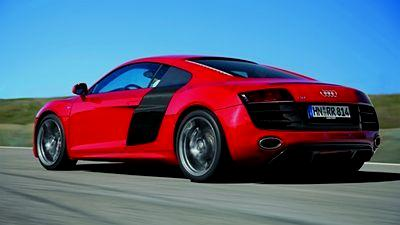Audi: (316, 86, 340, 100)
